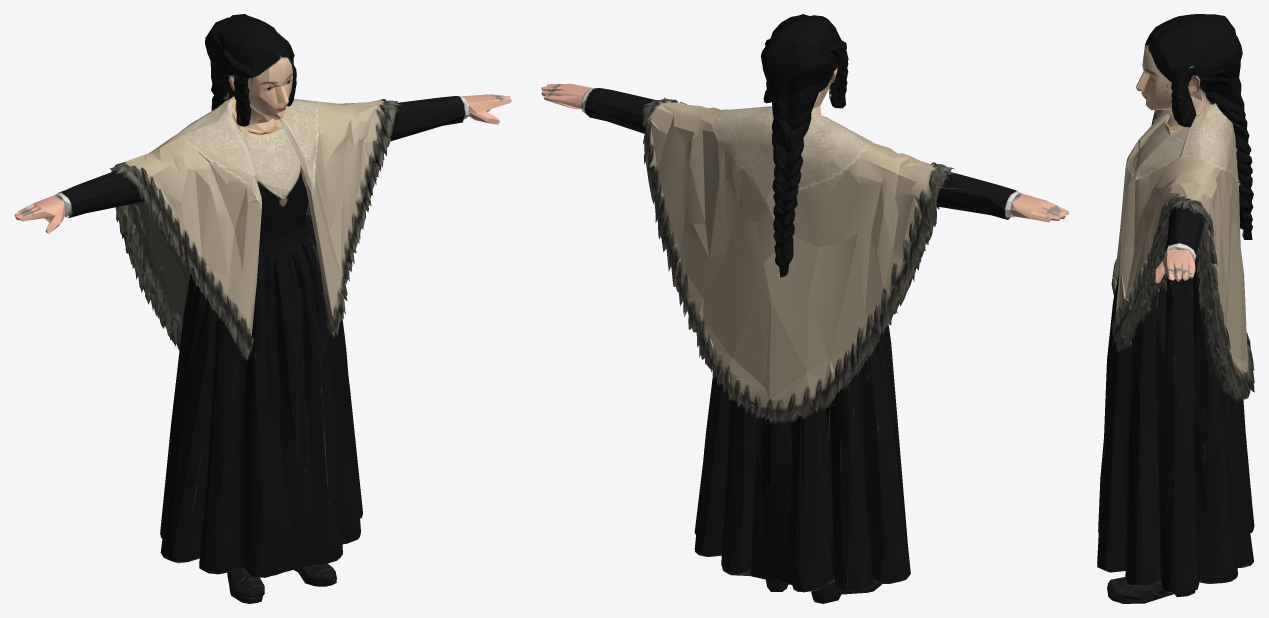
Rendered from emma-smith-10k.glb.
The picture shows the model from 3 angles, left to right: view 1: azimuth 30°, elevation 25°; view 2: azimuth 150°, elevation 25°; view 3: azimuth 270°, elevation 25°; orthographic projection. The views are drawn at different scales.
Visible parts, largest first — view 1: output_unwrapped; view 2: output_unwrapped; view 3: output_unwrapped.
Part boxes in pixels (x1,y1,x2,y2): output_unwrapped: (14,14,511,603); output_unwrapped: (541,14,1068,603); output_unwrapped: (1097,14,1254,603).
Size of the model in its own units: 1.8 by 1.9 by 0.4847.
Materials: 1 (1 with a texture image).
